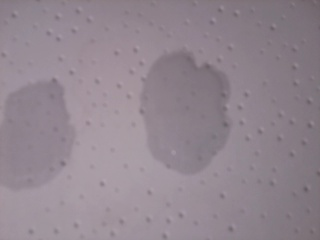Water_detected: (142, 64, 212, 156), (1, 96, 59, 180)
